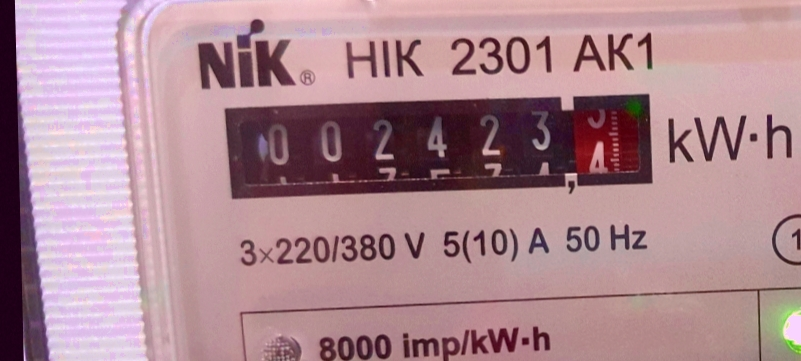0: (265, 118, 293, 167), (319, 117, 345, 163)
2: (370, 115, 397, 162), (478, 111, 502, 157)
3: (529, 107, 553, 152), (586, 105, 608, 129)
4: (425, 113, 448, 159), (585, 136, 611, 174)
screen: (214, 81, 667, 210)
